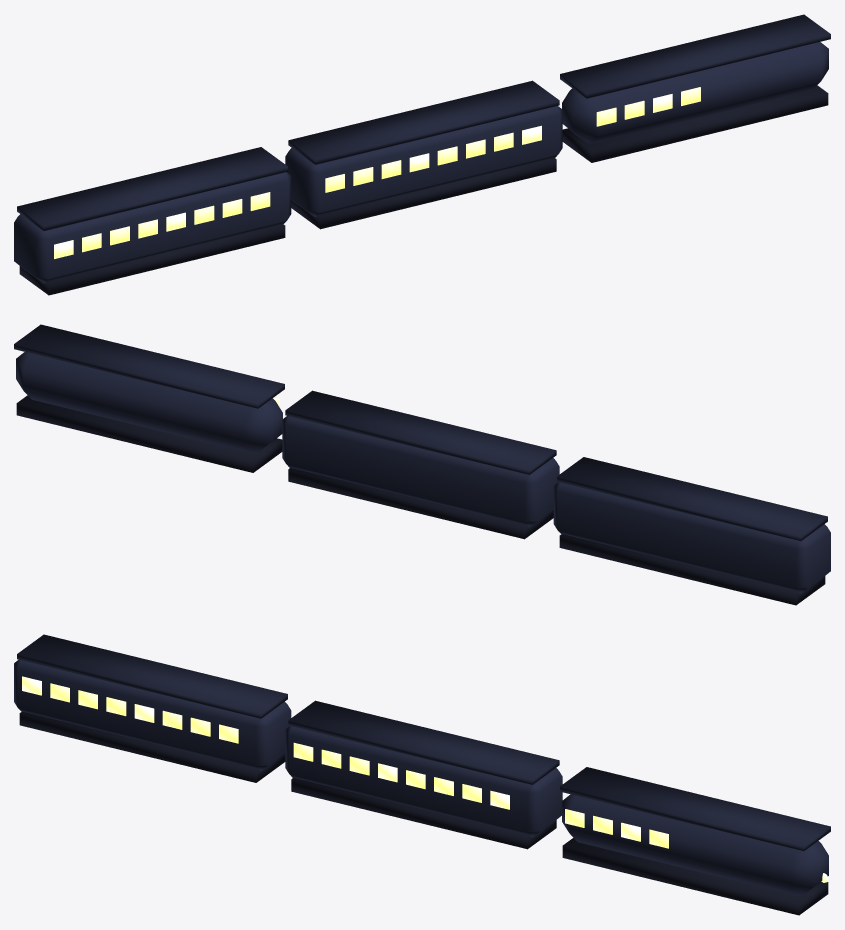
Rendered from night_train.glb.
3 renders of one model, top to bottom at view 1: azimuth 30°, elevation 25°; view 2: azimuth 150°, elevation 25°; view 3: azimuth 330°, elevation 25°, orthographic.
Parts seen in each view (by area): view 1: night_train, windows; view 2: night_train; view 3: night_train, windows.
Part boxes in pixels (x1,y1,x2,y2): night_train: (14,14,830,295); windows: (54,87,700,258); night_train: (14,324,830,605); night_train: (14,634,830,915); windows: (22,676,668,848).
Bounding box in the file's own units: 41.47 × 3.43 × 2.84.
